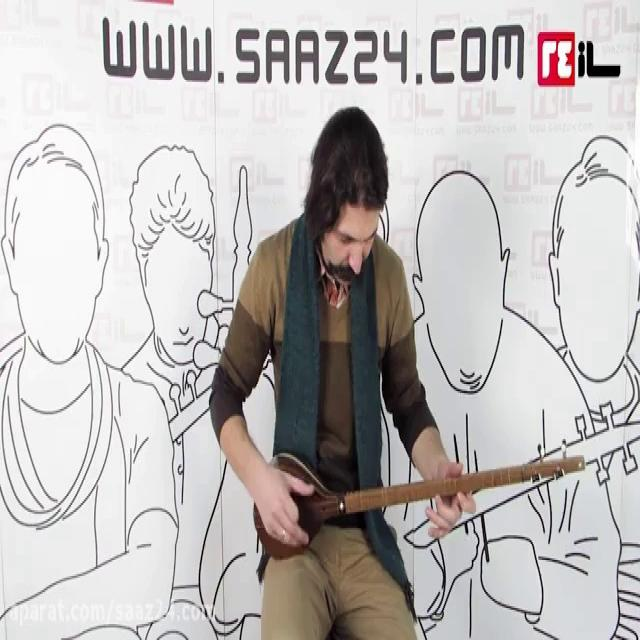Setar: (246, 442, 597, 569)
